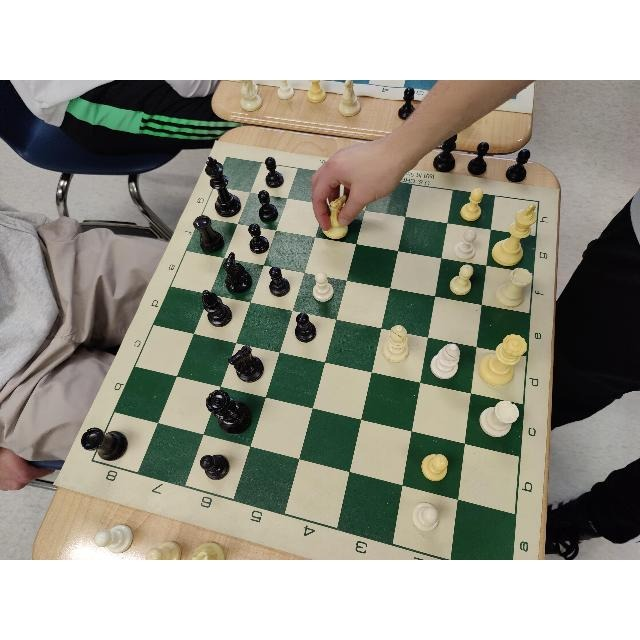black-bishop: (202, 289, 234, 327)
black-king: (206, 155, 242, 218)
black-knight: (228, 345, 264, 385), (223, 252, 252, 293)
black-pawn: (200, 453, 230, 481), (295, 312, 317, 343), (259, 190, 279, 224), (265, 154, 284, 189), (249, 222, 269, 253), (270, 266, 290, 297)
black-queen: (205, 389, 253, 434)
black-rook: (81, 426, 129, 461), (194, 213, 226, 254)
white-bishop: (383, 324, 411, 364), (430, 344, 460, 380)
white-king: (491, 204, 537, 267)
white-knight: (324, 195, 348, 238)
white-pawn: (412, 502, 440, 534), (460, 187, 484, 221), (421, 453, 448, 483), (450, 264, 474, 295), (454, 228, 478, 259)
white-queen: (479, 334, 527, 388)
white-rook: (479, 399, 520, 437), (496, 267, 532, 309)
